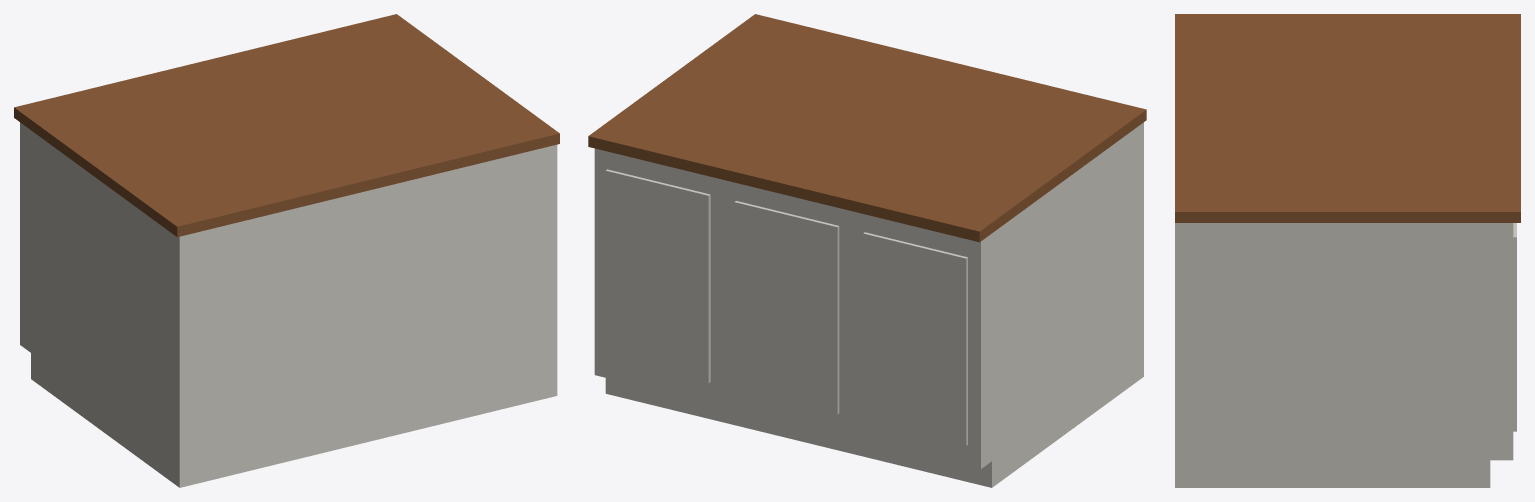
3 views of the same model, side by side, from view 1: azimuth 30°, elevation 25°; view 2: azimuth 150°, elevation 25°; view 3: azimuth 270°, elevation 25° (orthographic). The views are drawn at different scales.
Parts seen in each view (by area): view 1: parametric-swiss-bread-counter-city; view 2: parametric-swiss-bread-counter-city; view 3: parametric-swiss-bread-counter-city.
Boxes of the visible parts, x1,y1,x2,y2 form: parametric-swiss-bread-counter-city: [14, 14, 559, 487]; parametric-swiss-bread-counter-city: [588, 14, 1146, 487]; parametric-swiss-bread-counter-city: [1175, 14, 1520, 487].
Size of the model in its own units: 1.53 by 1 by 1.13.
